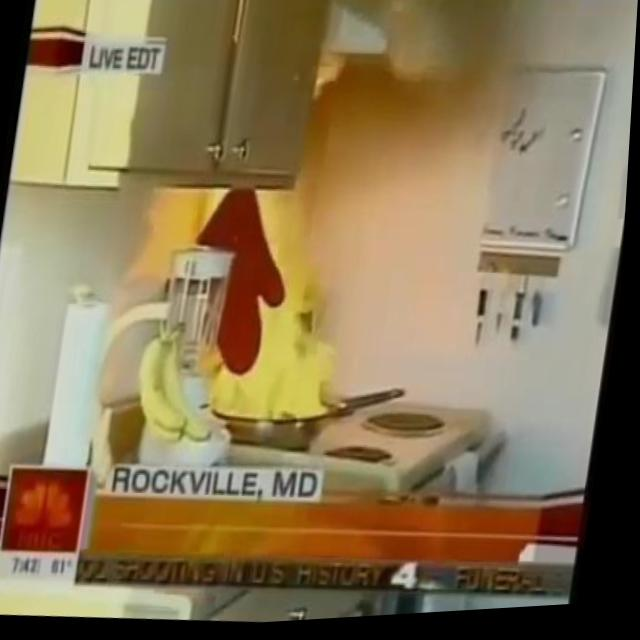fire: (178, 177, 373, 429)
